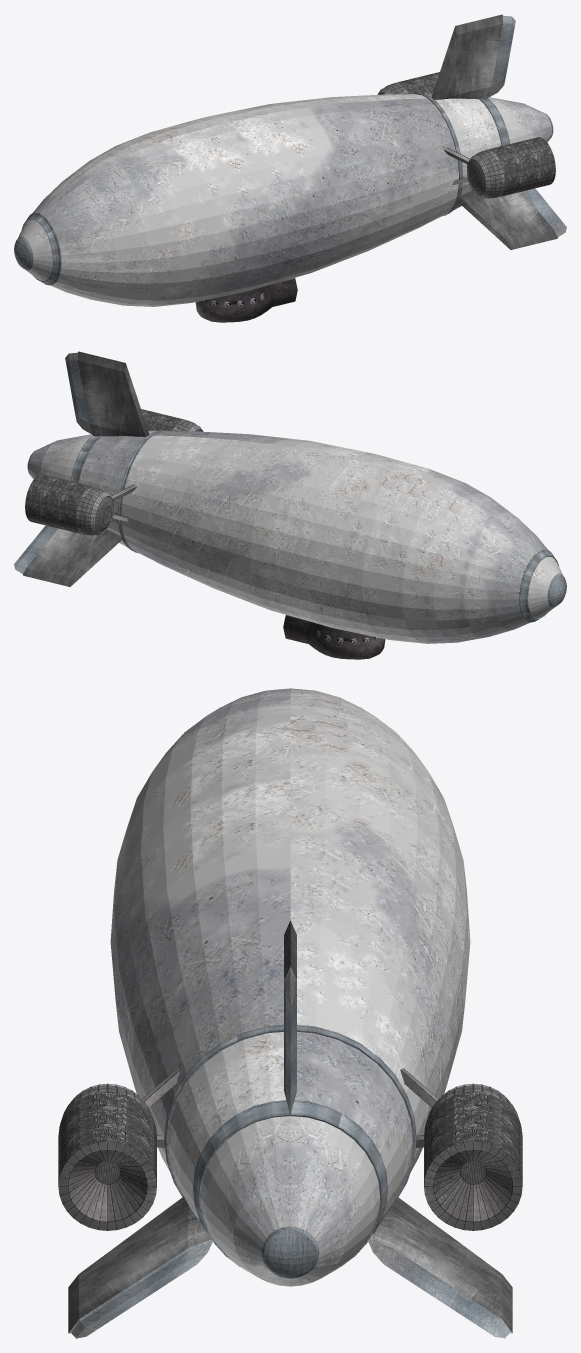
File: dirizhabll.fbx
3 renders of one model, top to bottom at view 1: azimuth 30°, elevation 25°; view 2: azimuth 150°, elevation 25°; view 3: azimuth 270°, elevation 25°, orthographic. The views are drawn at different scales.
Visible parts, largest first — view 1: Sphere.001; view 2: Sphere.001; view 3: Sphere.001.
Part boxes in pixels (x1,y1,x2,y2): Sphere.001: (14,14,566,322); Sphere.001: (14,351,566,659); Sphere.001: (58,688,522,1338).
Size of the model in its own units: 8103 by 3441 by 3049.
